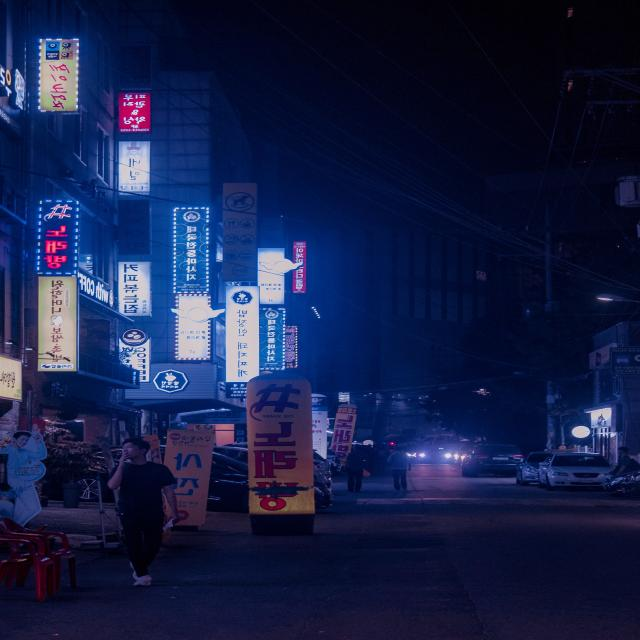adult: (105, 434, 183, 589)
